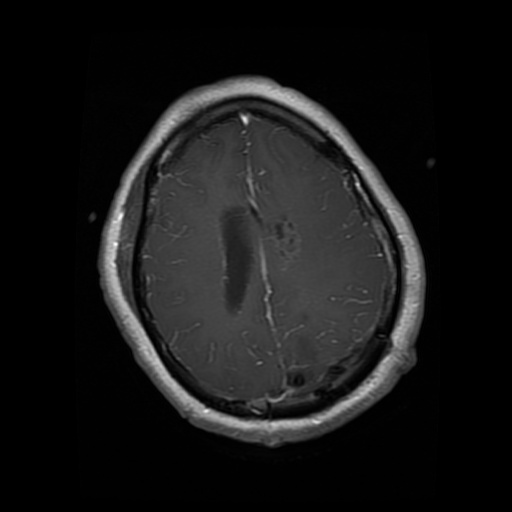glioma: (267, 209, 301, 267)
